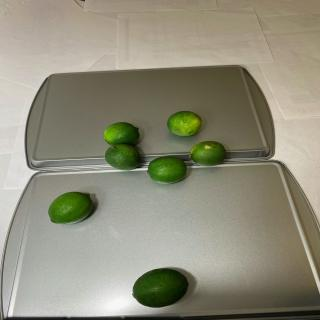Lemon: (132, 268, 188, 308), (48, 192, 93, 224), (147, 156, 187, 184), (189, 141, 227, 166), (104, 144, 140, 170), (167, 110, 202, 136), (104, 122, 140, 146)
